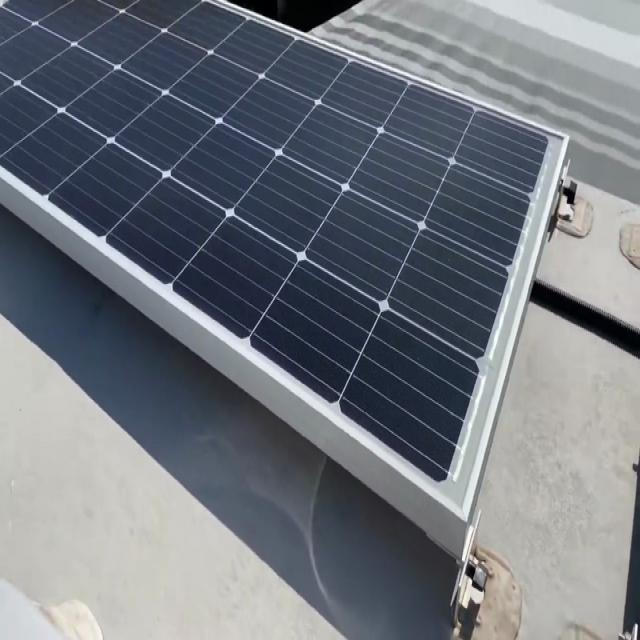Normal Solar Panel: (0, 0, 567, 518)
